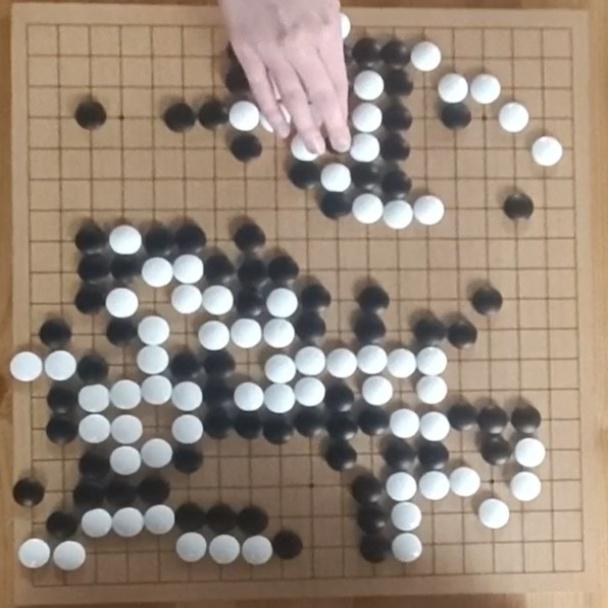corners: (14, 5, 44, 47), (19, 569, 49, 601), (569, 551, 595, 586), (556, 14, 582, 48)
